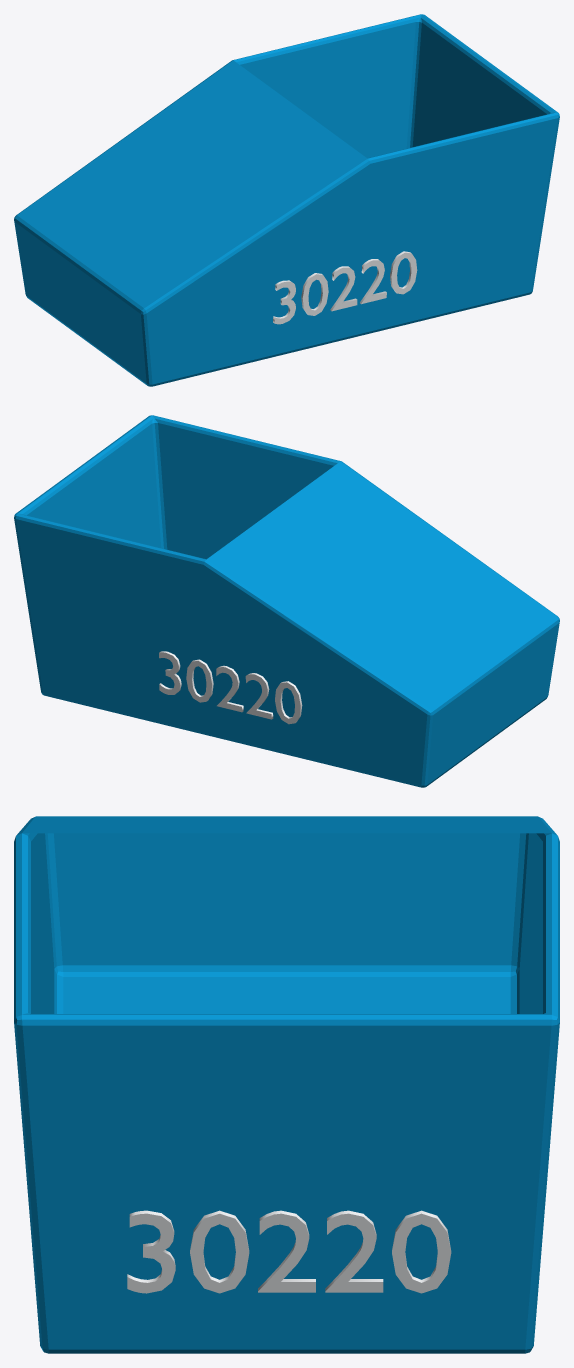
The picture shows the model from 3 angles, top to bottom: view 1: azimuth 30°, elevation 25°; view 2: azimuth 150°, elevation 25°; view 3: azimuth 270°, elevation 25°; orthographic projection. The views are drawn at different scales.
Parts seen in each view (by area): view 1: us-picking-bin-30220; view 2: us-picking-bin-30220; view 3: us-picking-bin-30220.
Part boxes in pixels (<box>): us-picking-bin-30220: <box>14,14,559,386</box>; us-picking-bin-30220: <box>14,415,559,787</box>; us-picking-bin-30220: <box>14,816,559,1353</box>.
Size of the model in its own units: 0.1815 by 0.076 by 0.1048.
